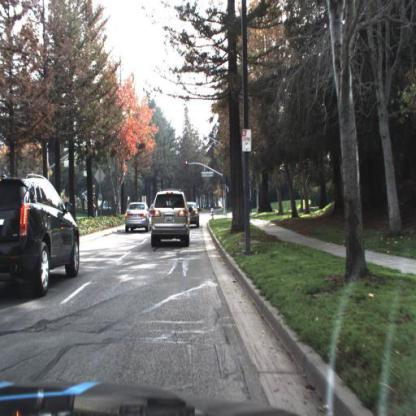car: (1, 170, 83, 299), (149, 189, 193, 251), (124, 200, 153, 233), (188, 201, 200, 228)
trafficLight-Red: (184, 159, 190, 171), (185, 162, 189, 174)
